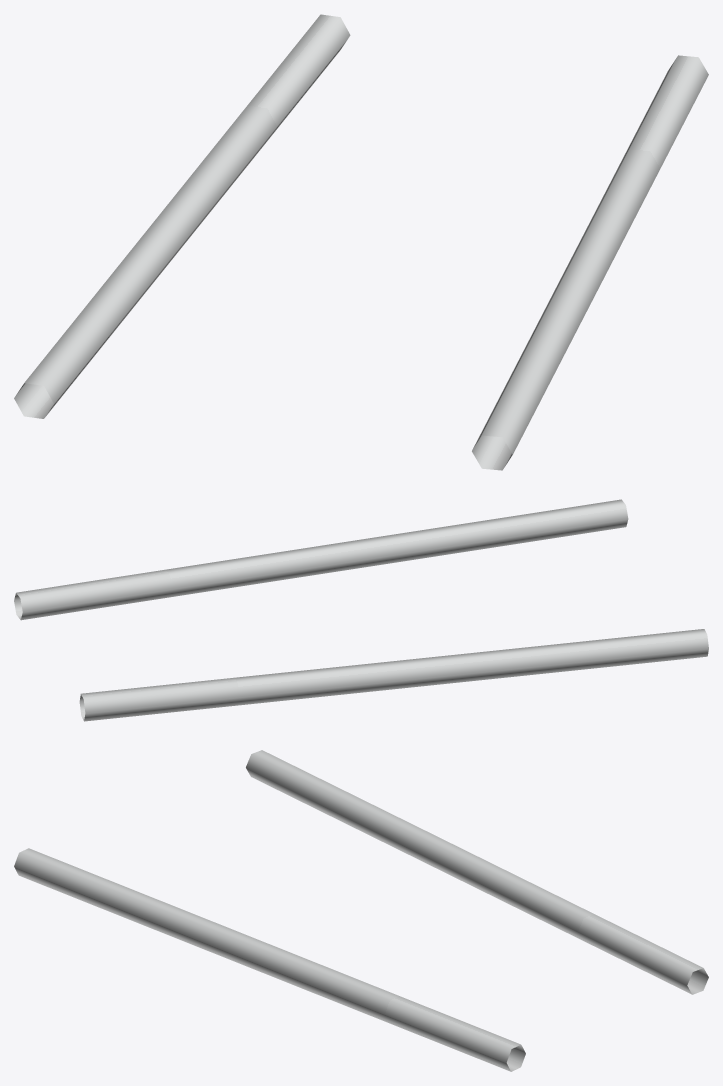
The model's file is nycsignalarm_diagonal8_c11.obj.
The picture shows the model from 3 angles, top to bottom: view 1: azimuth 30°, elevation 25°; view 2: azimuth 150°, elevation 25°; view 3: azimuth 270°, elevation 25°; orthographic projection. The views are drawn at different scales.
Parts seen in each view (by area): view 1: nycsignalarm_diagonal8_c11; view 2: nycsignalarm_diagonal8_c11; view 3: nycsignalarm_diagonal8_c11.
Boxes of the visible parts, x1,y1,x2,y2 form: nycsignalarm_diagonal8_c11: [14, 14, 708, 470]; nycsignalarm_diagonal8_c11: [14, 499, 708, 721]; nycsignalarm_diagonal8_c11: [14, 750, 708, 1071].
Bounding box in the file's own units: 1.49 × 0.0773 × 1.49.
